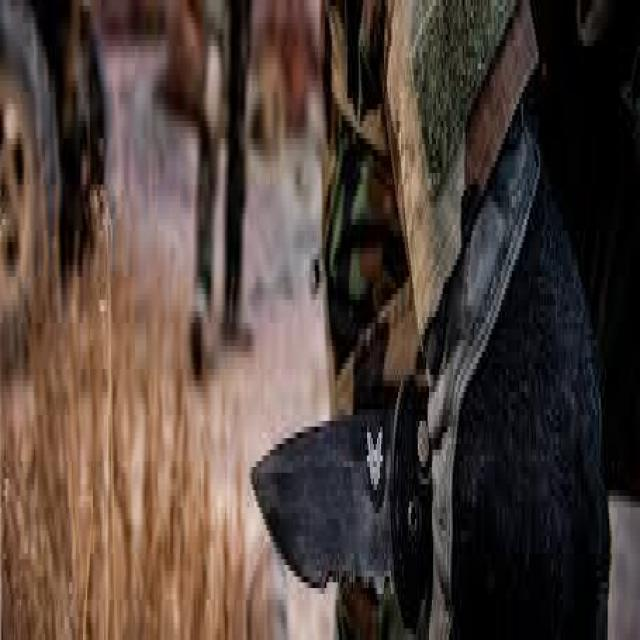Knife: (249, 369, 440, 632)
